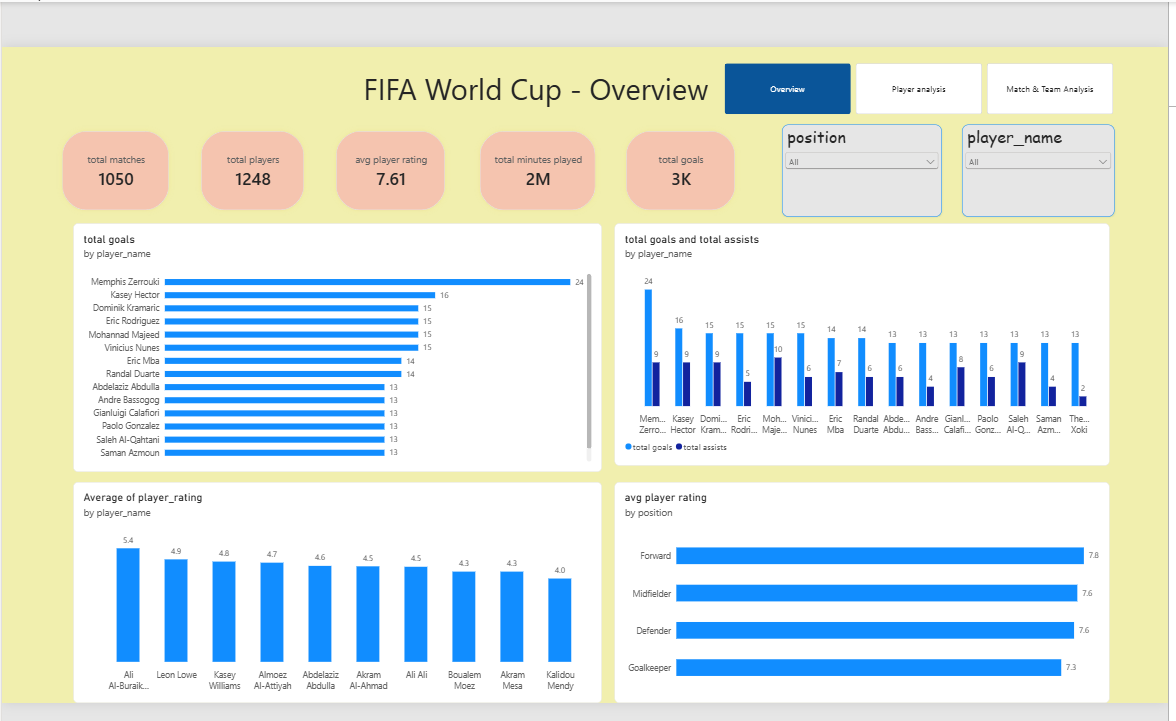

Layout of this report page (visuals, bound fields, positions):
{"tool":"powerbi","page":{"name":"Overview","canvas":[1920,1080],"ordinal":0},"visuals":[{"type":"cardVisual","fields":{"Data":["fifa_world_cup matches.total players"]},"box":[317,127.6,191.4,152.3],"z":0},{"type":"cardVisual","fields":{"Data":["fifa_world_cup matches.total goals"]},"box":[1016.8,127.6,201.7,152.3],"z":1},{"type":"cardVisual","fields":{"Data":["fifa_world_cup matches.total minutes played"]},"box":[776,127.6,212,152.3],"z":2},{"type":"cardVisual","fields":{"Data":["fifa_world_cup matches.total matches"]},"box":[88.5,127.6,197.6,152.3],"z":4},{"type":"cardVisual","fields":{"Data":["fifa_world_cup matches.avg player rating"]},"box":[539.3,127.6,201.7,152.3],"z":5},{"type":"slicer","fields":{"Values":["fifa_world_cup players.player_name"]},"box":[1580.8,127.6,251.1,152.3],"z":6},{"type":"slicer","fields":{"Values":["fifa_world_cup players.position"]},"box":[1284.4,127.6,263.5,152.3],"z":7},{"type":"textbox","box":[0,16.5,1163,119.4],"z":8},{"type":"clusteredBarChart","fields":{"Category":["fifa_world_cup players.player_name"],"Y":["fifa_world_cup matches.total goals"]},"box":[117.3,290.2,870.7,409.6],"z":9},{"type":"barChart","fields":{"Category":["fifa_world_cup players.position"],"Y":["fifa_world_cup matches.avg player rating"]},"box":[1008.6,716.3,815.1,364.3],"z":10},{"type":"clusteredColumnChart","fields":{"Y":["fifa_world_cup matches.total goals","fifa_world_cup matches.total assists"],"Category":["fifa_world_cup players.player_name"]},"box":[1008.6,290.2,815.1,399.3],"z":11},{"type":"clusteredColumnChart","fields":{"Y":["Avg(fifa_world_cup player_match_stats.player_rating)"],"Category":["fifa_world_cup players.player_name"]},"box":[117.3,716.3,870.7,364.3],"z":12},{"type":"pageNavigator","box":[1189.7,26.8,642.2,84.4],"z":13}]}

Visuals, with their boxes on the page's 1920x1080 design canvas (x1, y1, x2, y2). These are canvas units, not pixel positions in the 1176x721 screenshot, which may show the page scaled, cropped or inside an application window:
cardVisual - fifa_world_cup matches.total players: box=[317, 128, 508, 280]
cardVisual - fifa_world_cup matches.total goals: box=[1017, 128, 1218, 280]
cardVisual - fifa_world_cup matches.total minutes played: box=[776, 128, 988, 280]
cardVisual - fifa_world_cup matches.total matches: box=[88, 128, 286, 280]
cardVisual - fifa_world_cup matches.avg player rating: box=[539, 128, 741, 280]
slicer - fifa_world_cup players.player_name: box=[1581, 128, 1832, 280]
slicer - fifa_world_cup players.position: box=[1284, 128, 1548, 280]
textbox: box=[0, 16, 1163, 136]
clusteredBarChart - fifa_world_cup players.player_name x fifa_world_cup matches.total goals: box=[117, 290, 988, 700]
barChart - fifa_world_cup players.position x fifa_world_cup matches.avg player rating: box=[1009, 716, 1824, 1081]
clusteredColumnChart - fifa_world_cup matches.total goals x fifa_world_cup matches.total assists: box=[1009, 290, 1824, 690]
clusteredColumnChart - Avg(fifa_world_cup player_match_stats.player_rating) x fifa_world_cup players.player_name: box=[117, 716, 988, 1081]
pageNavigator: box=[1190, 27, 1832, 111]
